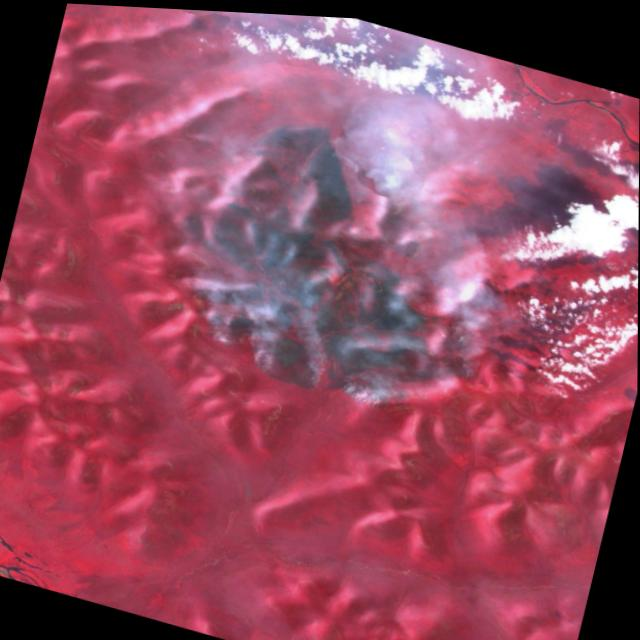fire: (344, 161, 453, 262), (429, 281, 513, 394), (320, 347, 416, 424)
